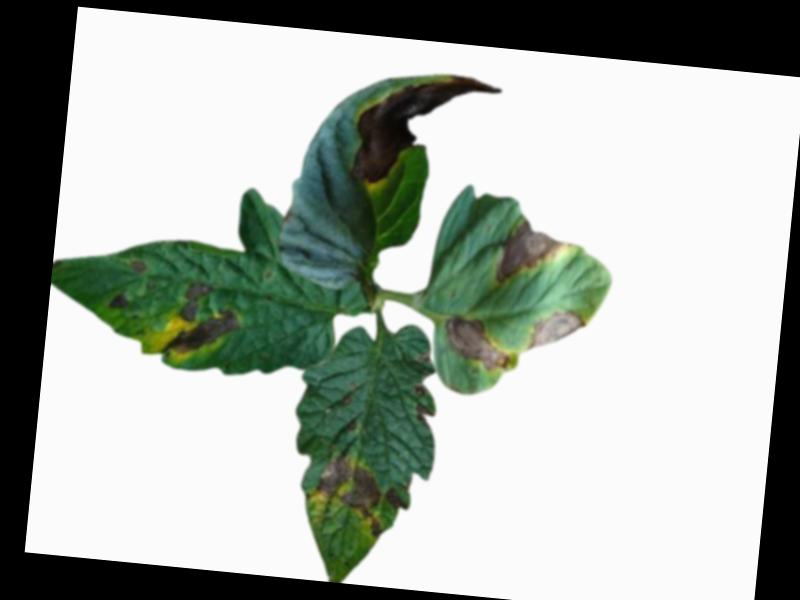Early_blight: (349, 65, 502, 195), (311, 449, 391, 537), (159, 278, 241, 360), (496, 217, 570, 287), (442, 311, 515, 373), (528, 306, 589, 355), (411, 381, 434, 428), (384, 485, 409, 513), (109, 290, 131, 311), (129, 256, 148, 272)
